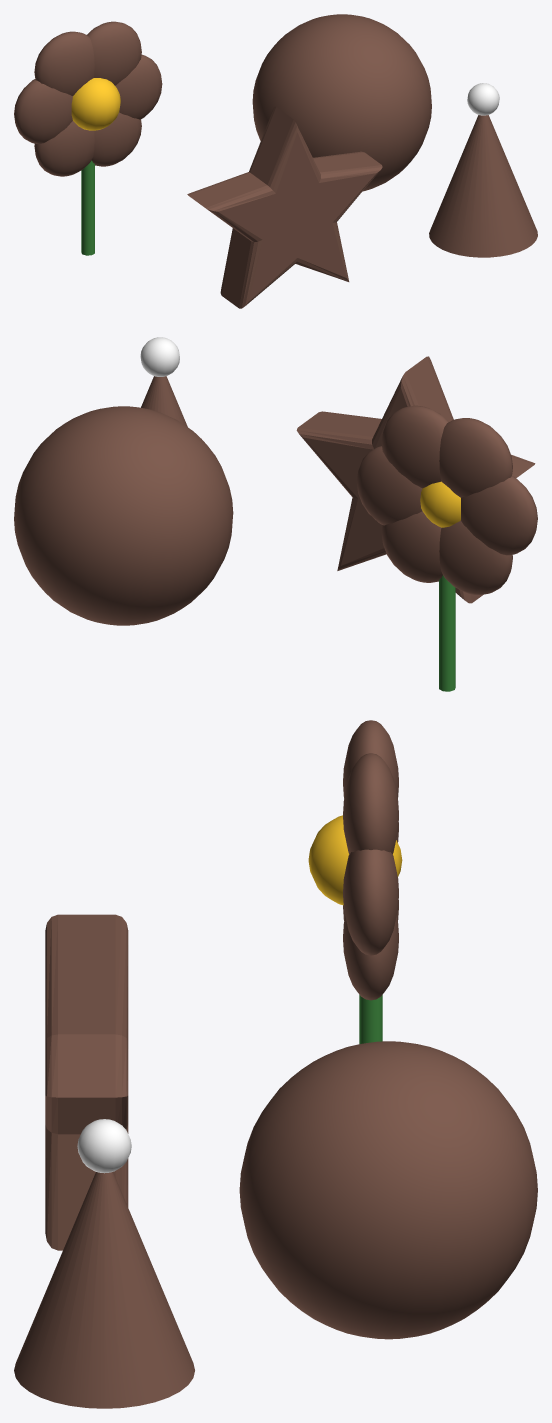
Rendered from brown.glb.
3 renders of one model, top to bottom at view 1: azimuth 30°, elevation 25°; view 2: azimuth 150°, elevation 25°; view 3: azimuth 270°, elevation 25°, orthographic. The views are drawn at different scales.
Visible parts, largest first — view 1: ball, star, flower, hat; view 2: ball, flower, star, hat; view 3: ball, hat, star, flower.
Boxes of the visible parts, x1,y1,x2,y2 form: ball: (252,14,431,191); star: (187,106,382,308); flower: (14,21,162,255); hat: (429,83,537,257); ball: (14,406,233,625); flower: (356,405,537,691); star: (296,356,535,603); hat: (140,337,187,426); ball: (239,1041,537,1339); hat: (14,1119,194,1408); star: (45,914,128,1250); flower: (308,720,402,1043).
Size of the model in its own units: 2.35 by 1.16 by 1.47.
